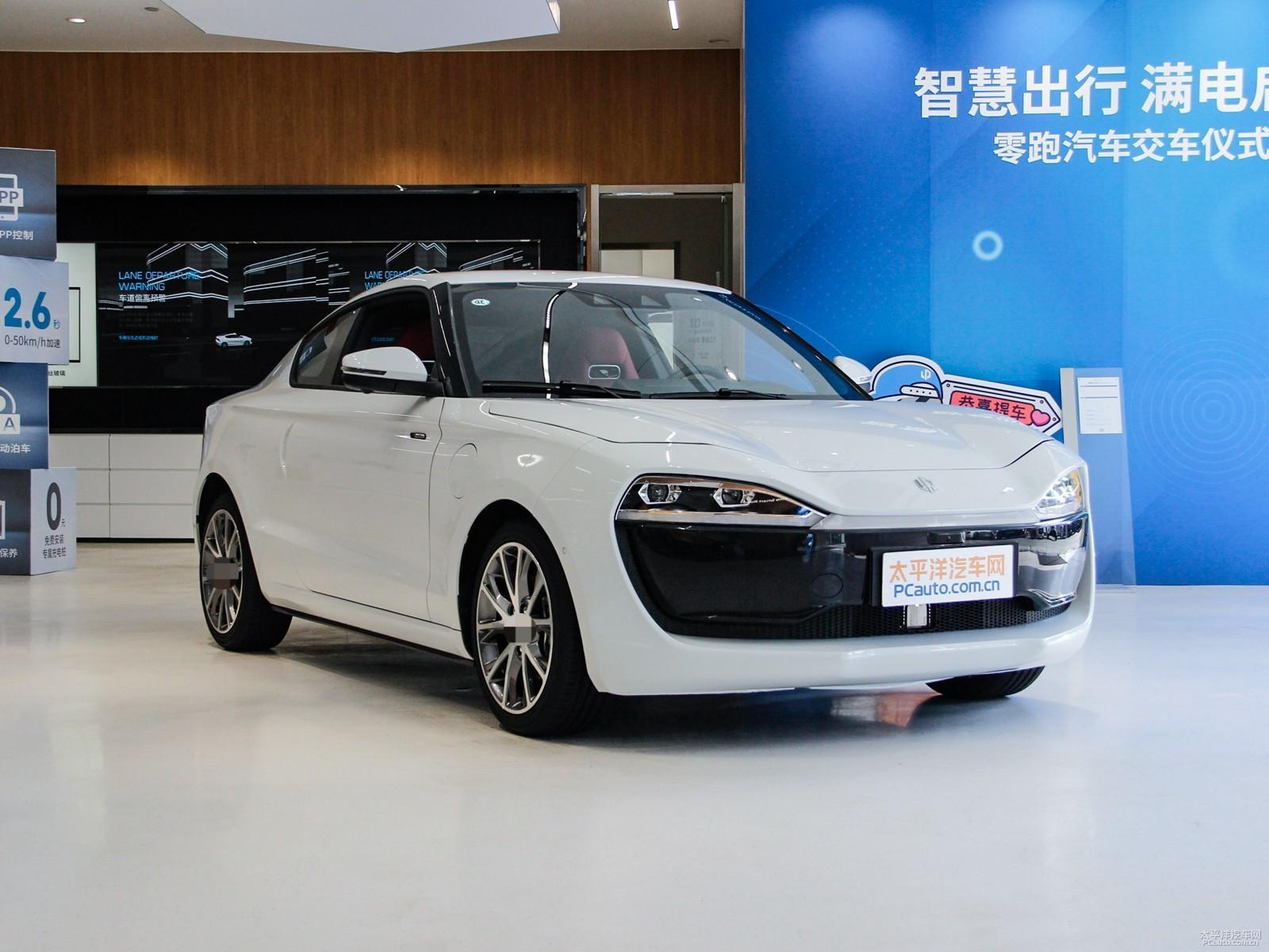LEAPMOTOR: (914, 476, 938, 495)
